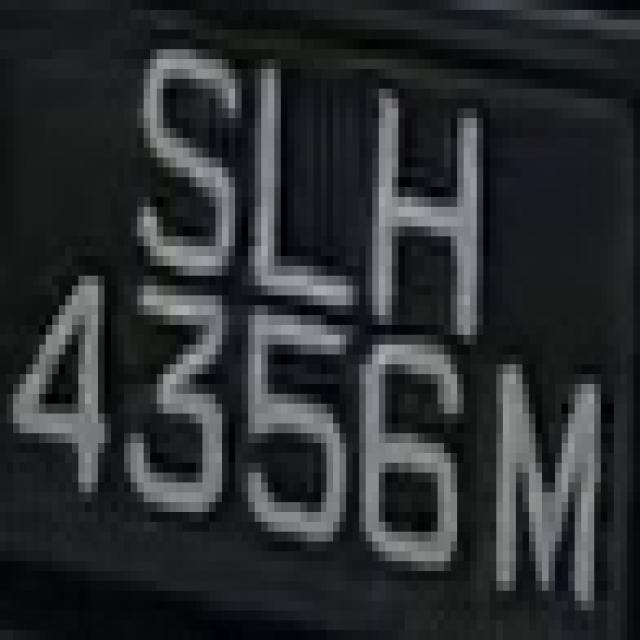3: (118, 246, 235, 561)
4: (13, 216, 118, 522)
5: (235, 266, 359, 551)
6: (346, 305, 470, 591)
H: (353, 49, 496, 325)
L: (235, 59, 366, 345)
M: (470, 325, 608, 620)
S: (118, 30, 248, 305)
